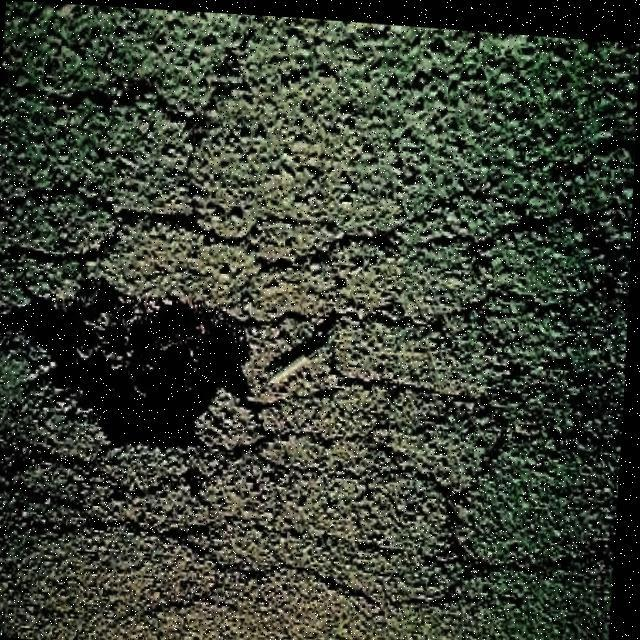pothole: (24, 294, 248, 448)
